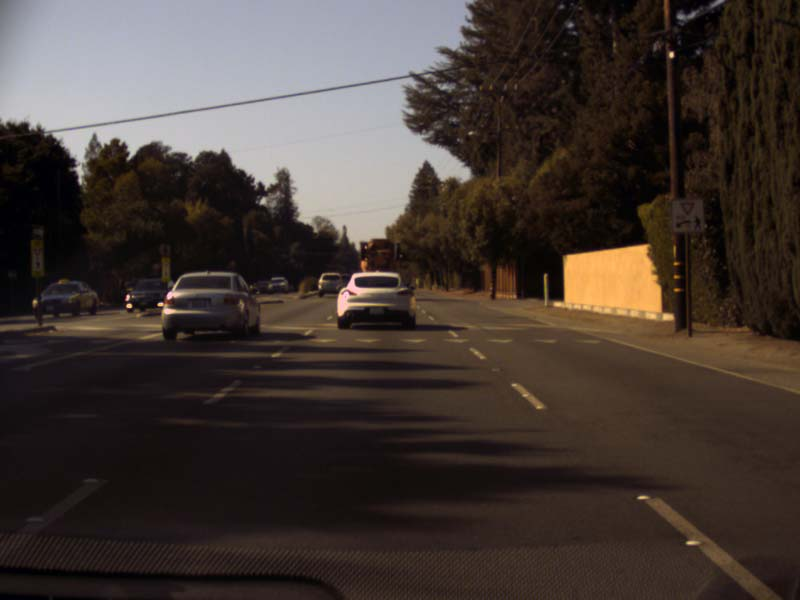Green: (396, 243, 402, 260)
Yellow: (361, 242, 367, 251)
